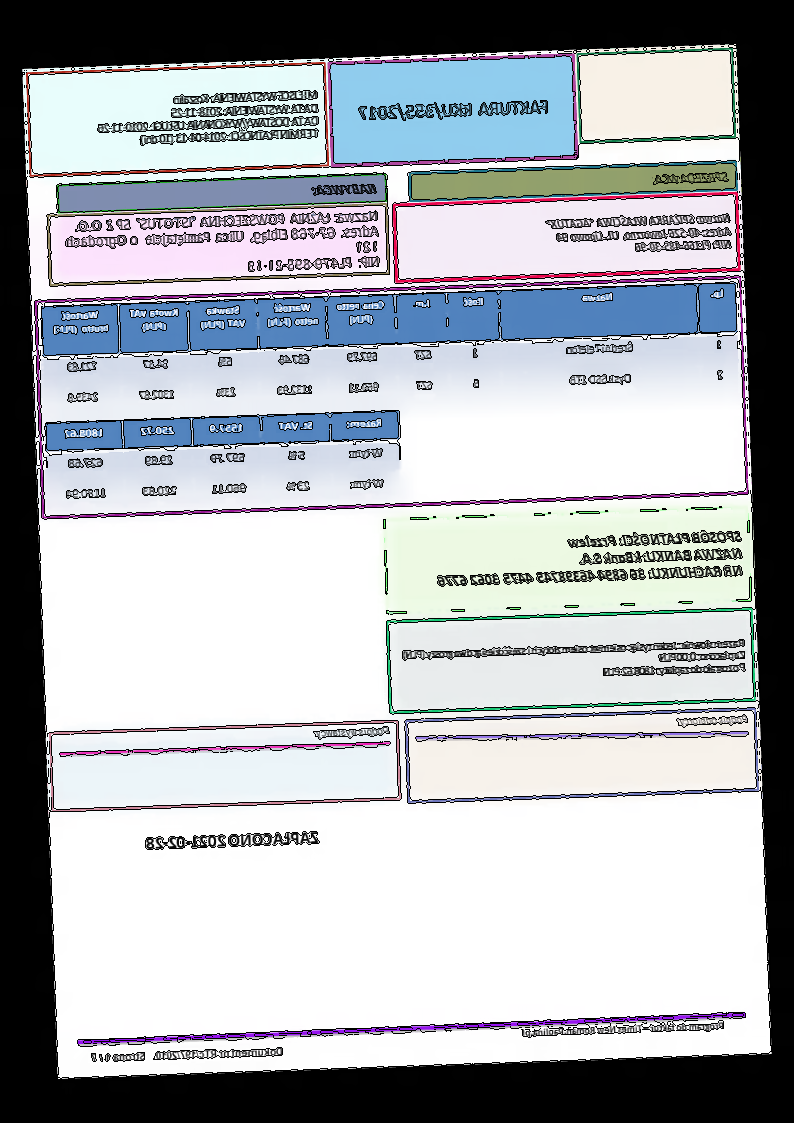Table: (40, 281, 741, 419), (43, 409, 403, 515)
TextBox: (64, 207, 383, 280), (435, 524, 746, 592), (398, 634, 748, 687), (96, 85, 321, 149), (544, 210, 734, 257), (357, 96, 551, 125), (519, 1019, 728, 1040), (86, 1043, 285, 1065), (144, 828, 320, 852), (650, 167, 731, 187), (311, 723, 392, 742), (676, 710, 750, 730), (310, 179, 379, 198)
